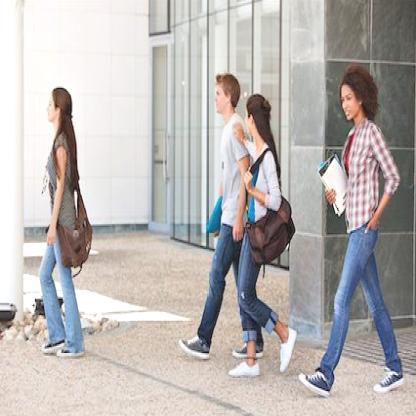jean: (305, 55, 409, 408), (230, 99, 295, 384), (35, 80, 91, 366), (184, 70, 240, 353)
